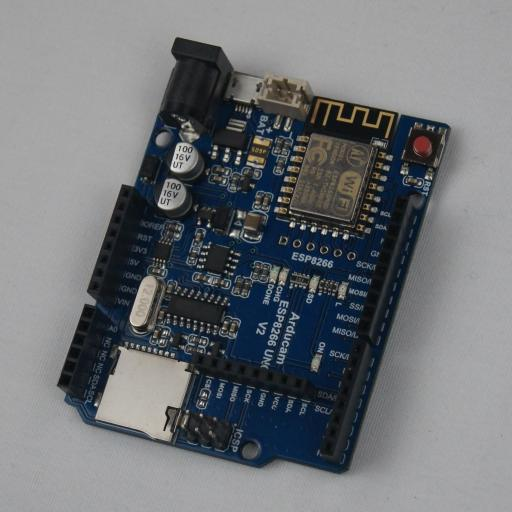Arduino Uno Camera Shield: (57, 38, 451, 474)
